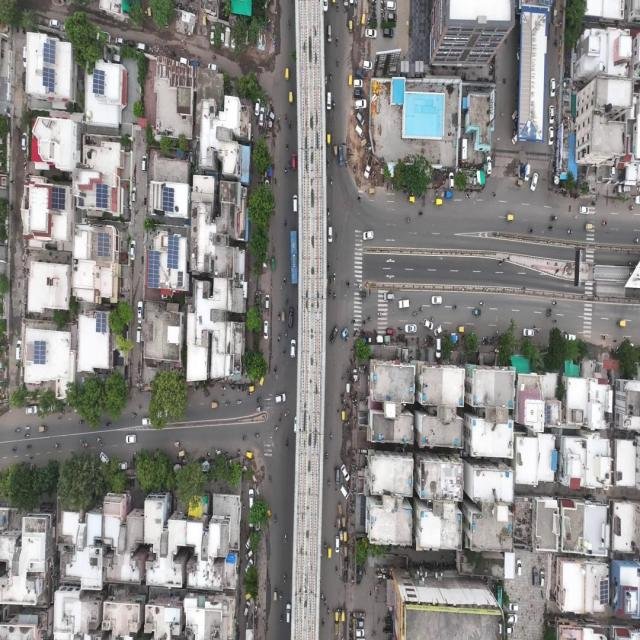3W: (615, 315, 628, 329), (38, 422, 50, 436), (287, 88, 295, 106), (339, 407, 348, 423), (341, 570, 349, 588), (331, 608, 340, 624), (434, 196, 444, 210), (323, 132, 332, 147), (407, 195, 418, 207), (504, 210, 514, 223), (342, 556, 350, 572), (146, 5, 154, 21), (342, 542, 349, 560), (210, 397, 218, 412), (258, 374, 265, 390), (583, 221, 593, 232), (248, 384, 258, 395), (348, 16, 354, 34), (246, 448, 253, 463), (176, 447, 187, 456), (346, 74, 353, 88), (336, 500, 342, 516), (360, 10, 365, 28), (342, 514, 348, 528), (342, 530, 348, 544), (334, 622, 340, 636), (284, 61, 288, 80), (341, 609, 346, 624), (328, 546, 333, 559)
Bus: (289, 227, 298, 290)
Cars: (20, 42, 31, 71), (546, 126, 559, 150), (548, 71, 558, 100), (547, 104, 558, 128), (432, 335, 443, 358), (537, 567, 547, 592), (530, 170, 539, 196), (129, 187, 138, 213), (328, 324, 339, 345), (402, 320, 417, 335), (521, 326, 537, 340), (114, 34, 128, 50), (530, 567, 540, 588), (348, 98, 367, 109), (354, 124, 367, 140), (577, 202, 590, 218), (427, 294, 444, 306), (508, 129, 518, 149), (336, 143, 344, 168), (398, 296, 412, 310), (562, 331, 578, 343), (486, 154, 494, 178), (248, 484, 255, 510), (362, 228, 375, 242), (508, 600, 521, 614), (209, 22, 216, 48), (124, 430, 136, 445), (340, 485, 350, 503), (382, 27, 394, 41), (618, 184, 632, 196), (178, 54, 192, 66), (135, 42, 147, 56), (21, 67, 28, 91), (98, 449, 109, 464), (362, 55, 373, 70), (384, 323, 395, 338), (14, 336, 20, 363), (130, 235, 136, 262), (327, 224, 334, 247), (334, 464, 341, 487), (271, 254, 278, 277), (20, 132, 27, 155), (245, 558, 255, 574), (243, 598, 251, 618), (340, 463, 350, 479), (137, 296, 143, 322), (25, 405, 37, 418), (290, 336, 296, 362), (275, 391, 287, 404), (116, 460, 128, 473), (386, 12, 399, 24), (354, 616, 365, 630), (353, 83, 363, 98), (264, 290, 271, 311), (448, 169, 455, 190), (258, 106, 265, 127), (140, 416, 151, 429), (382, 291, 395, 302), (384, 0, 397, 11), (207, 59, 220, 70), (287, 307, 294, 327), (136, 320, 141, 347), (355, 112, 366, 124), (190, 56, 201, 68), (125, 37, 137, 48), (50, 16, 61, 28), (242, 551, 255, 561), (505, 613, 518, 623), (422, 316, 432, 329), (244, 532, 252, 548), (334, 535, 340, 556), (516, 557, 522, 578), (326, 92, 333, 110), (506, 626, 517, 637), (263, 319, 269, 339), (254, 98, 261, 114), (286, 602, 291, 624), (365, 28, 376, 38), (525, 162, 530, 184), (266, 110, 277, 120), (141, 154, 146, 176), (354, 628, 366, 637), (434, 324, 443, 336), (293, 190, 297, 215), (353, 77, 362, 86), (292, 151, 296, 170)
LCV: (363, 153, 372, 182)
M2W: (266, 473, 276, 496), (232, 392, 242, 412), (285, 154, 293, 177), (254, 428, 264, 446), (600, 214, 610, 230), (327, 475, 334, 496), (332, 556, 339, 576), (566, 227, 576, 241), (273, 362, 281, 379), (546, 221, 556, 234), (321, 612, 328, 630), (223, 397, 234, 408), (12, 424, 22, 436), (21, 428, 31, 440), (283, 436, 289, 456), (375, 306, 384, 319), (344, 277, 353, 290), (319, 589, 325, 608), (276, 329, 283, 345), (282, 216, 289, 232), (365, 310, 373, 324), (327, 260, 334, 276), (282, 531, 288, 549), (282, 570, 288, 588), (286, 16, 292, 34), (335, 56, 342, 71), (242, 427, 248, 444), (76, 416, 86, 426), (477, 300, 487, 310), (92, 432, 101, 443), (601, 333, 610, 344), (138, 401, 146, 413), (272, 422, 280, 434), (324, 73, 330, 89), (333, 270, 338, 289), (633, 235, 640, 248), (103, 417, 112, 427), (132, 409, 139, 421), (282, 348, 289, 360), (286, 117, 292, 131), (325, 450, 331, 464), (329, 173, 335, 187), (551, 214, 560, 223), (548, 299, 558, 307), (453, 304, 461, 314), (323, 540, 329, 553), (629, 201, 634, 216), (527, 227, 536, 235), (282, 110, 287, 124), (273, 511, 278, 524), (328, 430, 333, 443), (327, 204, 332, 217), (416, 304, 424, 312), (11, 447, 20, 454), (53, 442, 60, 451), (281, 276, 288, 285), (279, 612, 283, 627), (333, 290, 338, 302), (328, 70, 333, 82), (82, 442, 89, 450), (328, 271, 333, 282), (544, 308, 553, 314), (412, 308, 418, 317), (277, 312, 281, 325), (324, 596, 328, 609), (335, 34, 339, 47), (544, 313, 554, 318), (78, 435, 85, 442), (25, 425, 31, 433), (284, 330, 290, 338), (21, 458, 26, 467), (284, 164, 287, 179), (285, 406, 289, 417), (332, 103, 336, 114), (360, 318, 367, 324), (27, 443, 32, 451), (351, 318, 355, 328), (329, 290, 332, 302), (279, 590, 282, 601), (286, 140, 288, 154), (328, 608, 330, 621)
